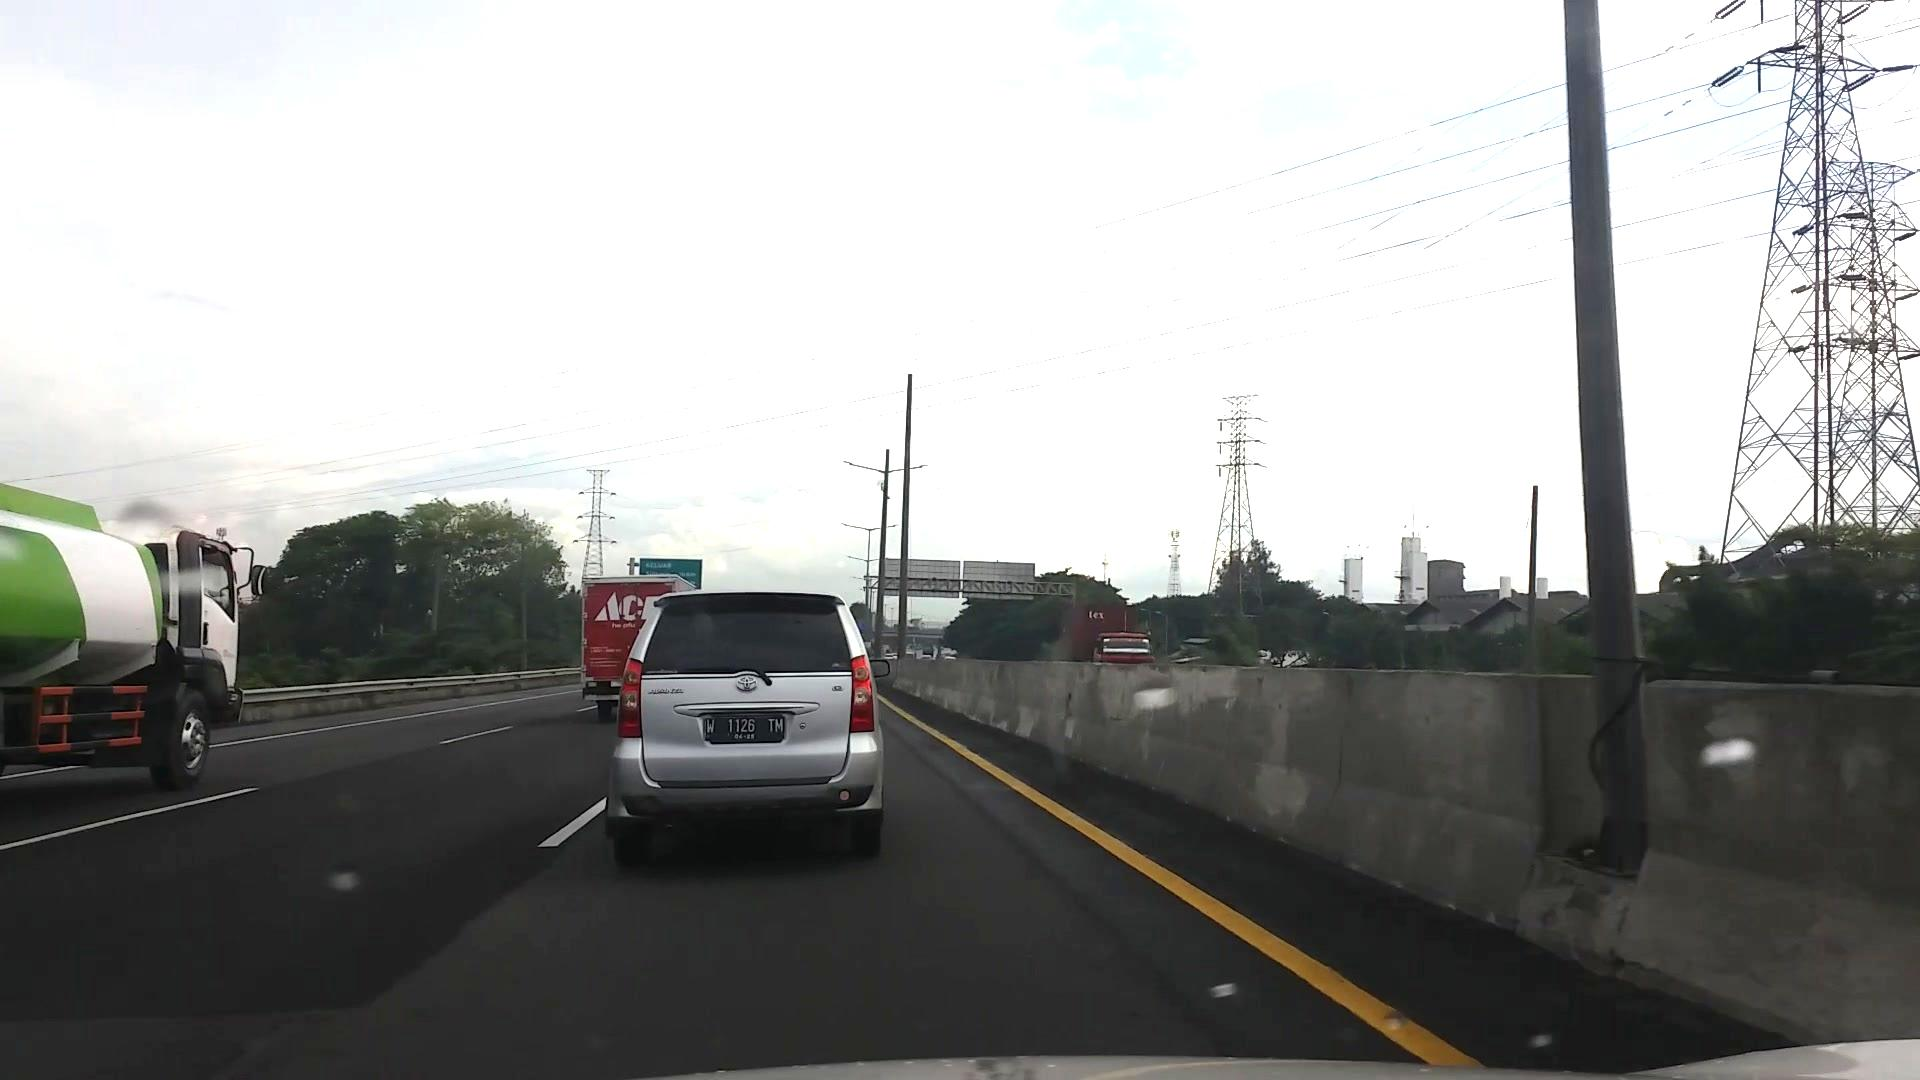plate_positive: (704, 716, 785, 742)
